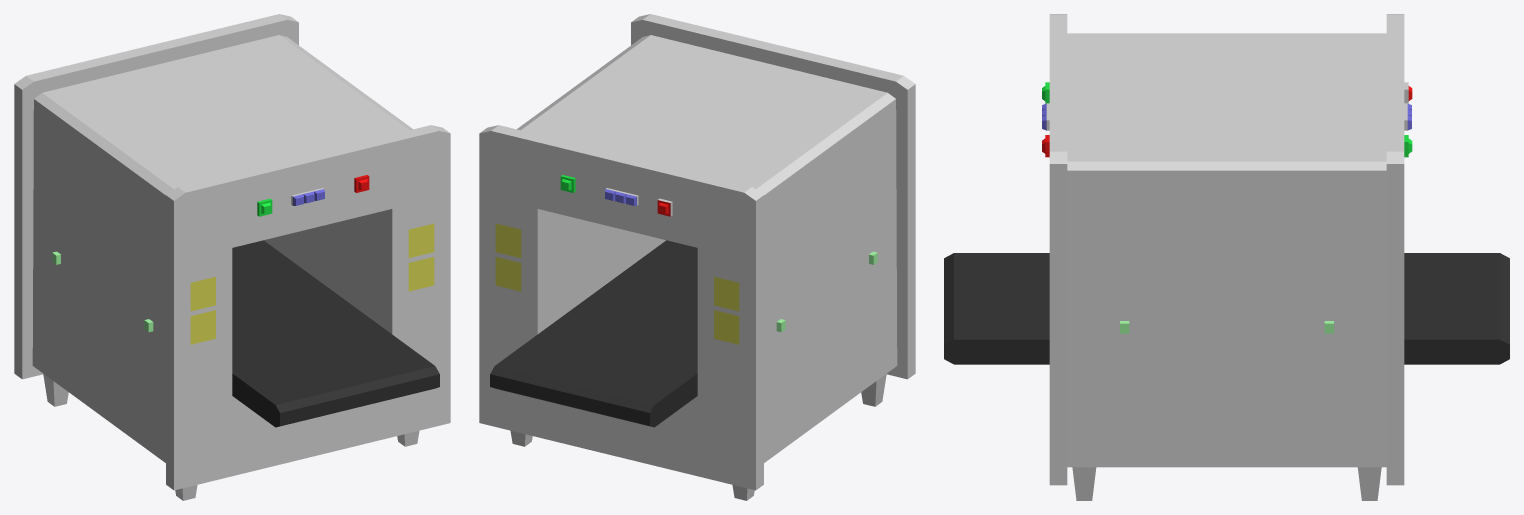
The model's file is MetalDetector_02.fbx.
The picture shows the model from 3 angles, left to right: view 1: azimuth 30°, elevation 25°; view 2: azimuth 150°, elevation 25°; view 3: azimuth 270°, elevation 25°; orthographic projection. The views are drawn at different scales.
Parts seen in each view (by area): view 1: SM_Prop_MetalDetector_Baggage_01; view 2: SM_Prop_MetalDetector_Baggage_01; view 3: SM_Prop_MetalDetector_Baggage_01.
Part boxes in pixels (left/top/right/bottom): SM_Prop_MetalDetector_Baggage_01: left=14, top=14, right=450, bottom=500; SM_Prop_MetalDetector_Baggage_01: left=479, top=14, right=915, bottom=500; SM_Prop_MetalDetector_Baggage_01: left=944, top=14, right=1509, bottom=500.
Size of the model in its own units: 1 by 1.1 by 1.6.
